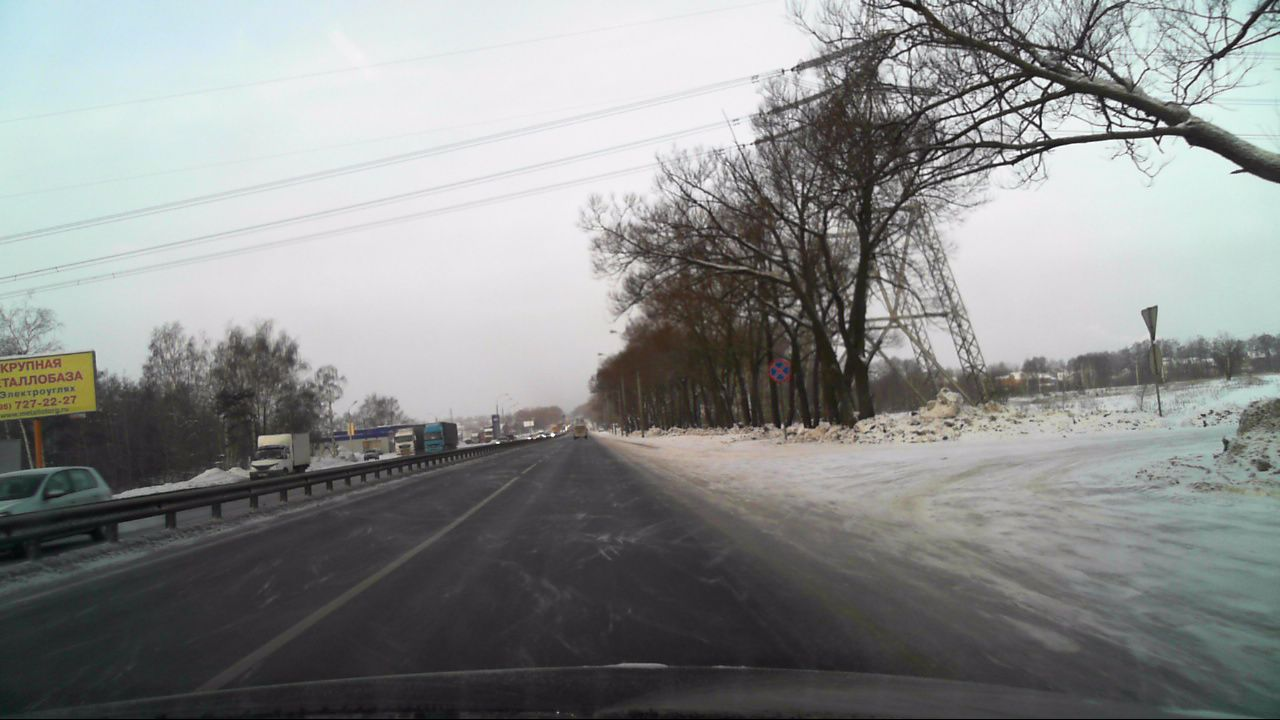No Parking: (768, 358, 790, 383)
